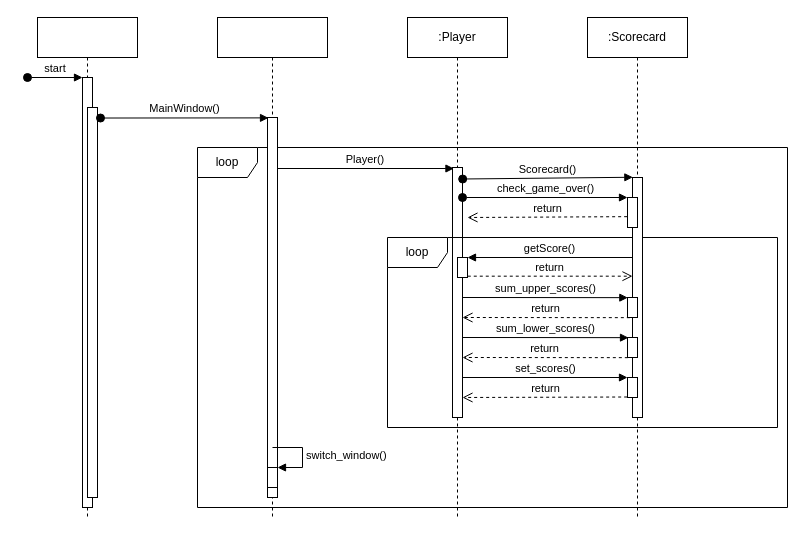
Image size: 805x535. Some labels were removed from this diagram. The shapes that lost their labels are listed below. From the top down, each one's box as (x1, y1, x2, y2) in pixels, then its label:
(36, 16, 138, 518): :Yahtzee
(216, 16, 328, 518): :MainWindow
